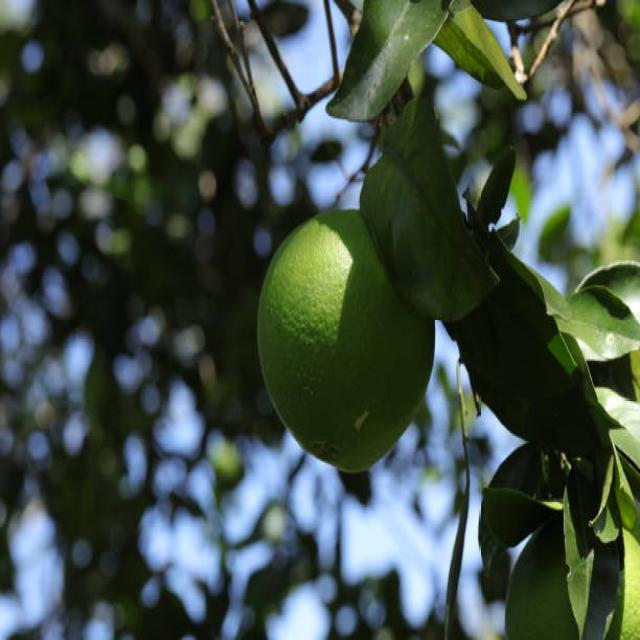Unripe: (257, 208, 435, 473)
